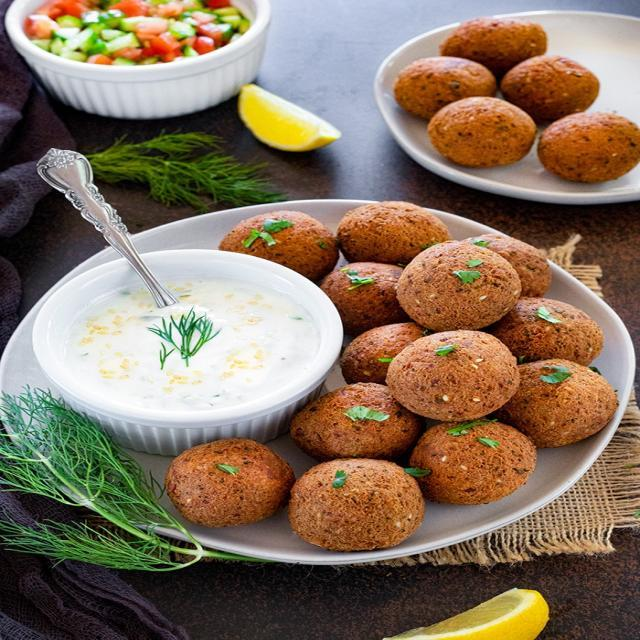flafel: (286, 457, 426, 552), (394, 329, 523, 423), (167, 435, 289, 529), (399, 242, 520, 332), (423, 99, 539, 169), (536, 110, 640, 187)
